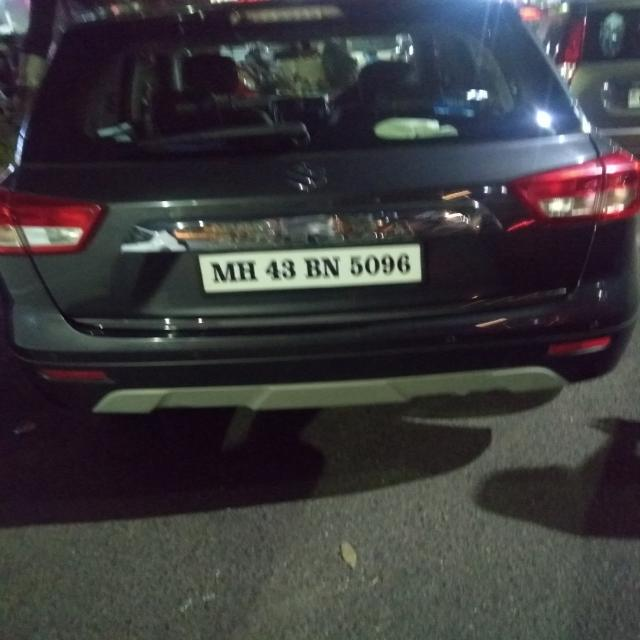Number-Plate: (204, 244, 426, 287)
